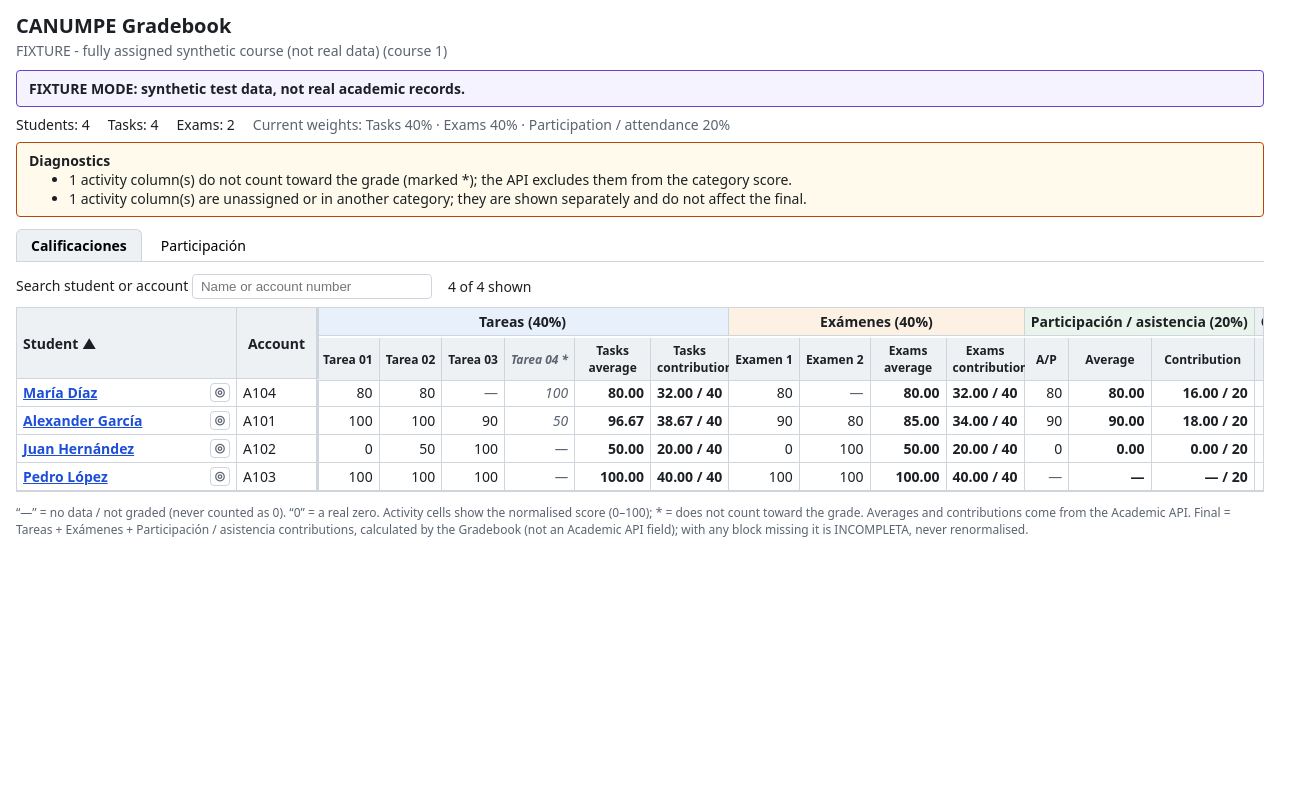
Test: Participación tab › fixture mode is read-only: controls and button are disabled and nothing is sent
This screenshot has width=1292, height=800.
Expected: the table is shown, [17,308,1264,491]
Click the tab "Participación" at (203, 245), box [146,229,261,261]
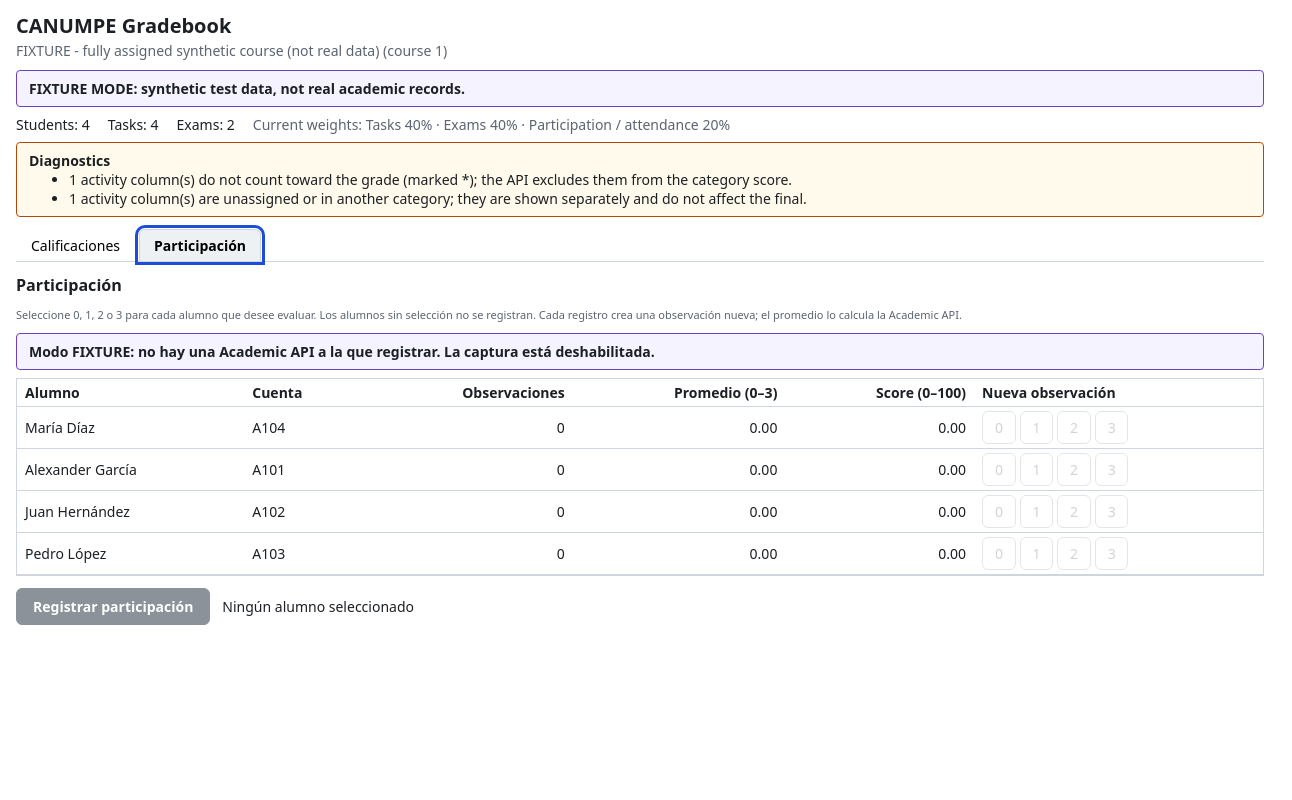
Expected: the radio button labelled "3" in the row of "María Díaz" is disabled, [1095,411,1128,444]
Expected: the radio button labelled "3" in the row of "Alexander García" is disabled, [1095,453,1128,486]
Expected: the radio button labelled "3" in the row of "Juan Hernández" is disabled, [1095,495,1128,528]
